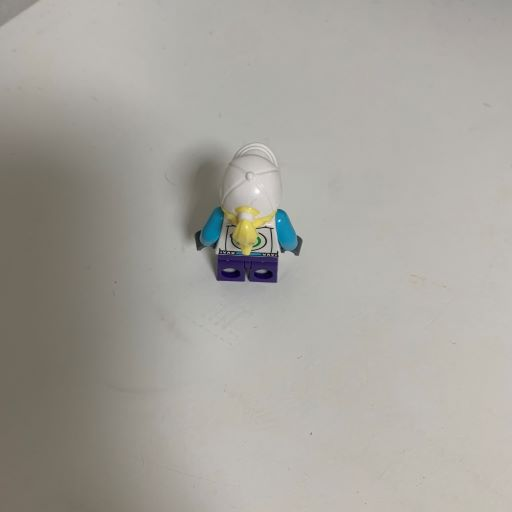human: (186, 138, 314, 296)
